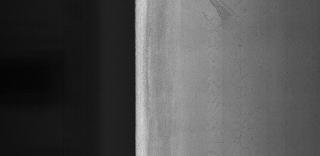silk spot: (208, 45, 256, 149)
water spot: (199, 1, 251, 34)
